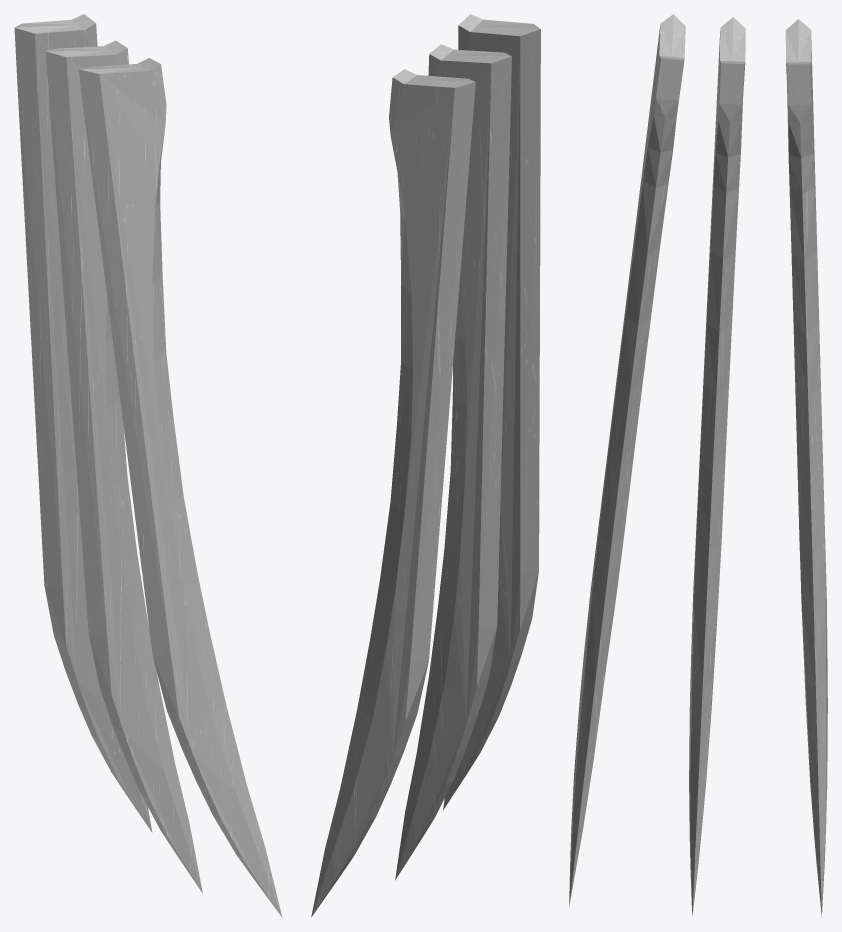
Rendered from Wolverine claw.FBX.
3 views of the same model, side by side, from view 1: azimuth 30°, elevation 25°; view 2: azimuth 150°, elevation 25°; view 3: azimuth 270°, elevation 25° (orthographic). The views are drawn at different scales.
Visible parts, largest first — view 1: Line002; view 2: Line002; view 3: Line002.
Part boxes in pixels (x1,y1,x2,y2): Line002: (14, 14, 282, 917); Line002: (311, 14, 540, 917); Line002: (569, 14, 827, 917).
Size of the model in its own units: 6.07 by 32.94 by 9.19.
